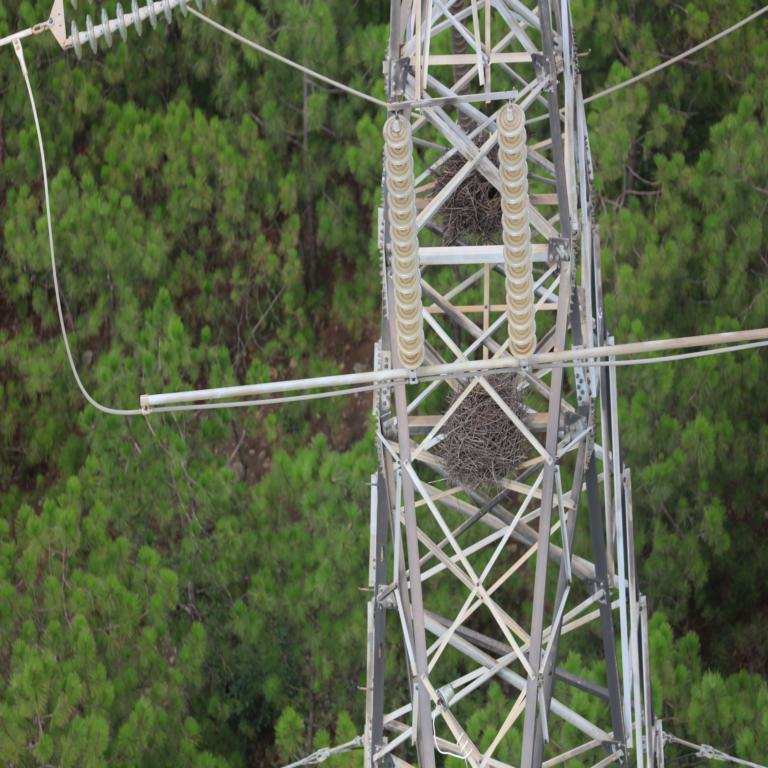nest: (446, 374, 537, 494)
